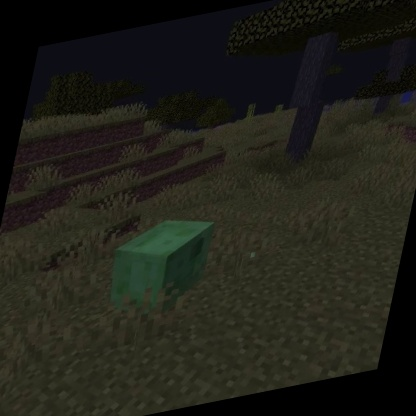slime: (96, 207, 221, 327)
